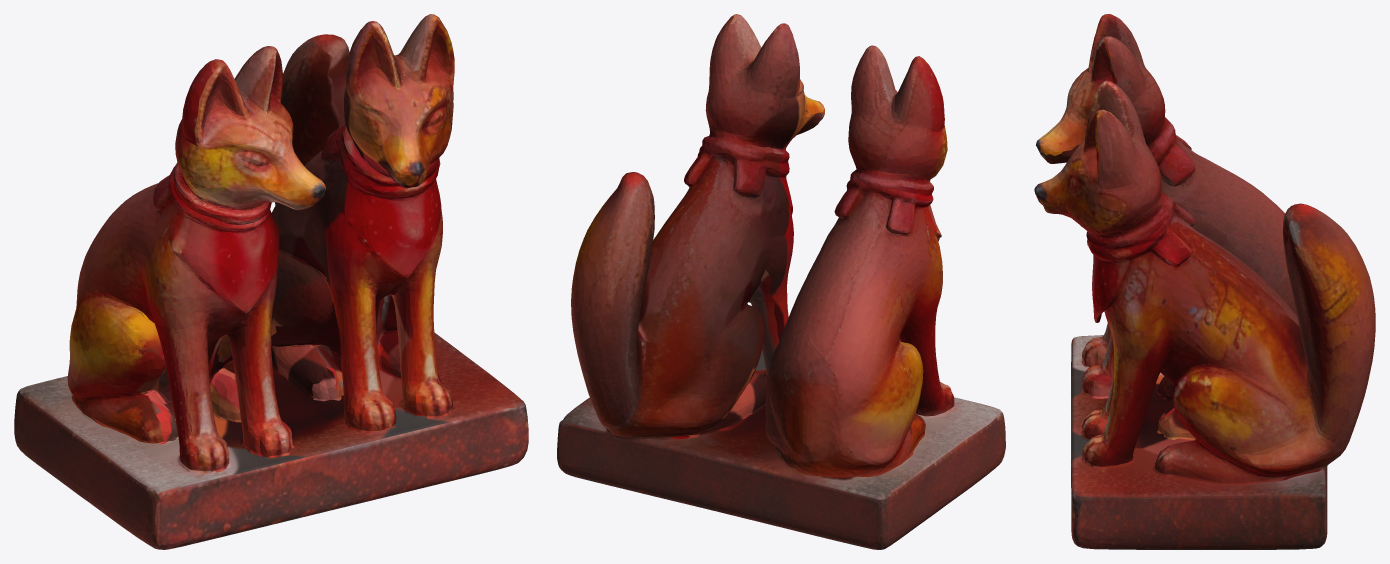
The model's file is phoenix_fox_cave_votive_pair.glb.
3 renders of one model, left to right at view 1: azimuth 30°, elevation 25°; view 2: azimuth 150°, elevation 25°; view 3: azimuth 270°, elevation 25°, orthographic. The views are drawn at different scales.
Visible parts, largest first — view 1: temp_mesh.ply; view 2: temp_mesh.ply; view 3: temp_mesh.ply.
Part boxes in pixels (<box>): temp_mesh.ply: <box>14,14,528,549</box>; temp_mesh.ply: <box>557,14,1005,549</box>; temp_mesh.ply: <box>1034,14,1375,549</box>.
Size of the model in its own units: 1.66 by 1.95 by 1.46.
1 material, 1 textured.
